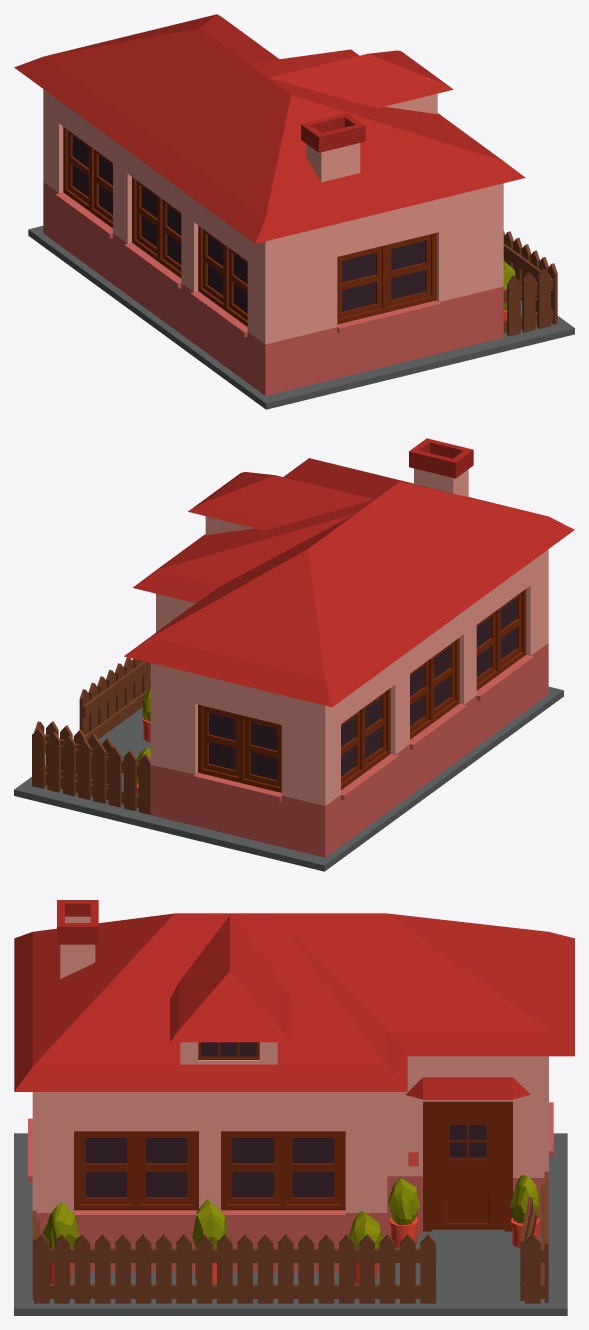
The model's file is PublicBuilding_5.glb.
3 views of the same model, one above another, from view 1: azimuth 30°, elevation 25°; view 2: azimuth 150°, elevation 25°; view 3: azimuth 270°, elevation 25° (orthographic). The views are drawn at different scales.
Parts seen in each view (by area): view 1: PublicBuilding_5; view 2: PublicBuilding_5; view 3: PublicBuilding_5.
Part boxes in pixels (x1=…): PublicBuilding_5: x1=14, y1=14, x2=574, y2=409; PublicBuilding_5: x1=14, y1=438, x2=574, y2=871; PublicBuilding_5: x1=14, y1=900, x2=574, y2=1315.
Bounding box in the file's own units: 0.0368 × 0.0266 × 0.0481.
Materials: 1 (1 with a texture image).
